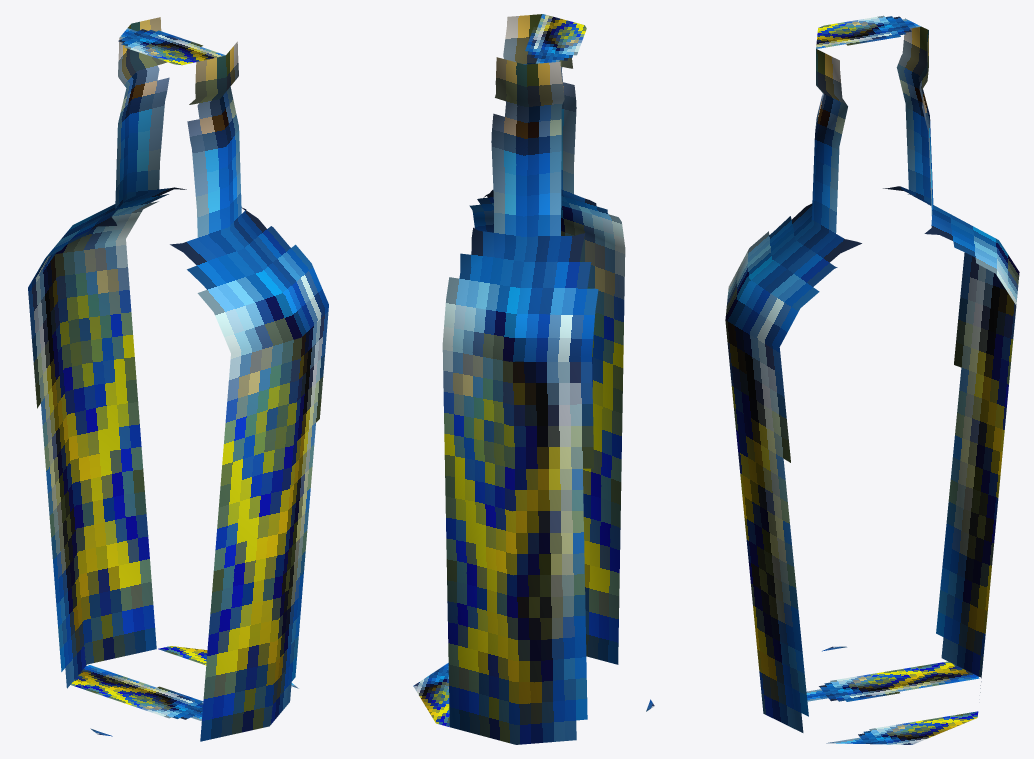
File: SlipperyFish.fbx
3 views of the same model, side by side, from view 1: azimuth 30°, elevation 25°; view 2: azimuth 150°, elevation 25°; view 3: azimuth 270°, elevation 25° (orthographic).
Visible parts, largest first — view 1: Item_SlipperyFish; view 2: Item_SlipperyFish; view 3: Item_SlipperyFish.
Boxes of the visible parts, x1=… form: Item_SlipperyFish: x1=28, y1=17, x2=328, y2=741; Item_SlipperyFish: x1=413, y1=14, x2=654, y2=744; Item_SlipperyFish: x1=725, y1=15, x2=1019, y2=744.
Bounding box in the file's own units: 0.2315 × 0.5338 × 0.2168.
Materials: 1 (1 with a texture image).
